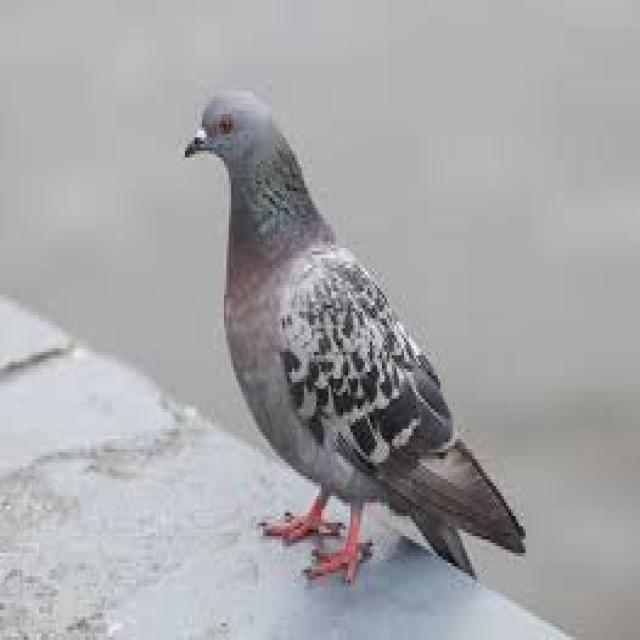Pigeon: (178, 88, 530, 587)
